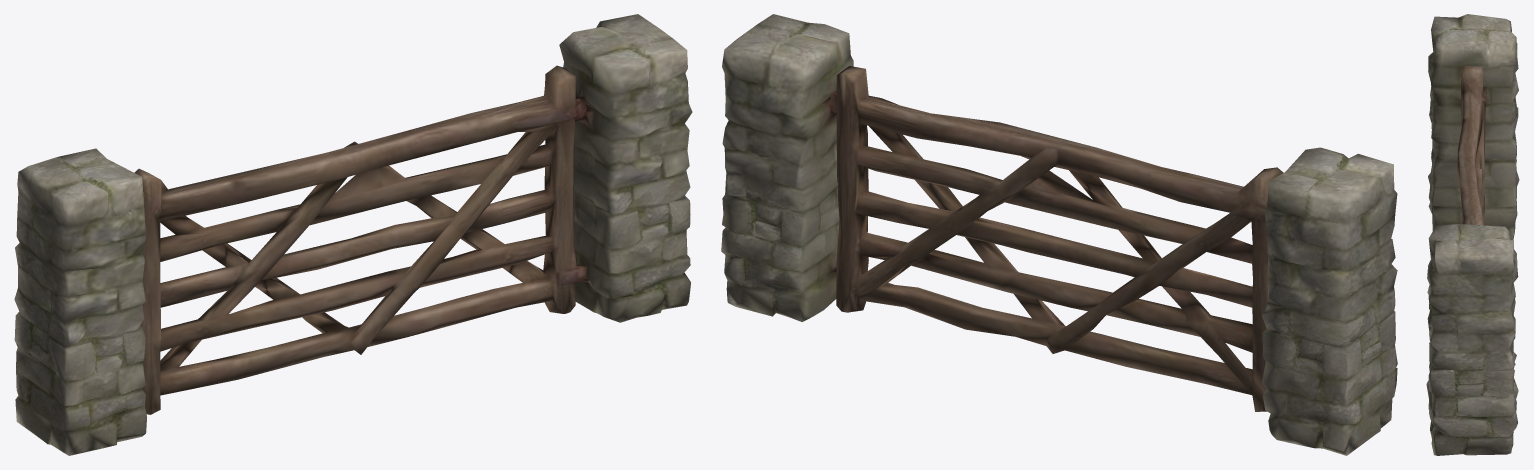
File: field_gate.glb
3 views of the same model, side by side, from view 1: azimuth 30°, elevation 25°; view 2: azimuth 150°, elevation 25°; view 3: azimuth 270°, elevation 25° (orthographic). The views are drawn at different scales.
Parts seen in each view (by area): view 1: tripo_node_d76bf786-5e8b-4060-958a-e534aa65cb21; view 2: tripo_node_d76bf786-5e8b-4060-958a-e534aa65cb21; view 3: tripo_node_d76bf786-5e8b-4060-958a-e534aa65cb21.
Boxes of the visible parts, x1,y1,x2,y2 form: tripo_node_d76bf786-5e8b-4060-958a-e534aa65cb21: [14, 14, 692, 455]; tripo_node_d76bf786-5e8b-4060-958a-e534aa65cb21: [721, 14, 1397, 455]; tripo_node_d76bf786-5e8b-4060-958a-e534aa65cb21: [1426, 14, 1519, 455].
Bounding box in the file's own units: 0.9814 × 0.3849 × 0.159.
Materials: 1 (1 with a texture image).
